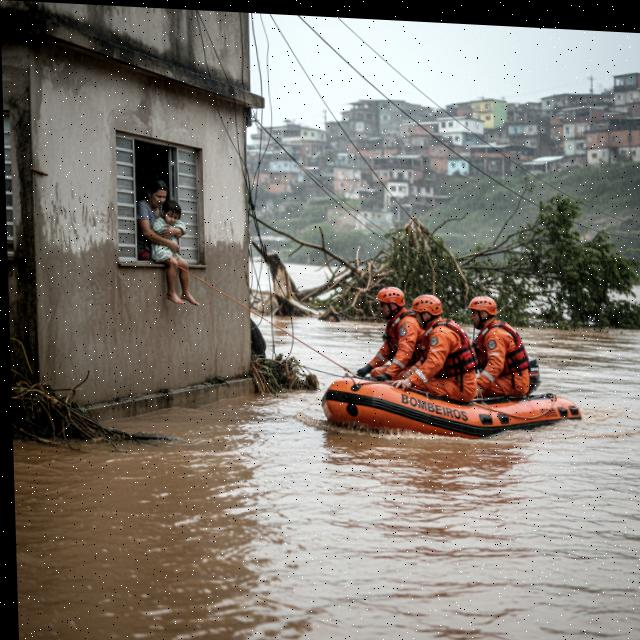civilian: (147, 189, 205, 316), (141, 177, 179, 267)
rescuer: (384, 290, 485, 410), (353, 281, 433, 391), (468, 289, 537, 412)
